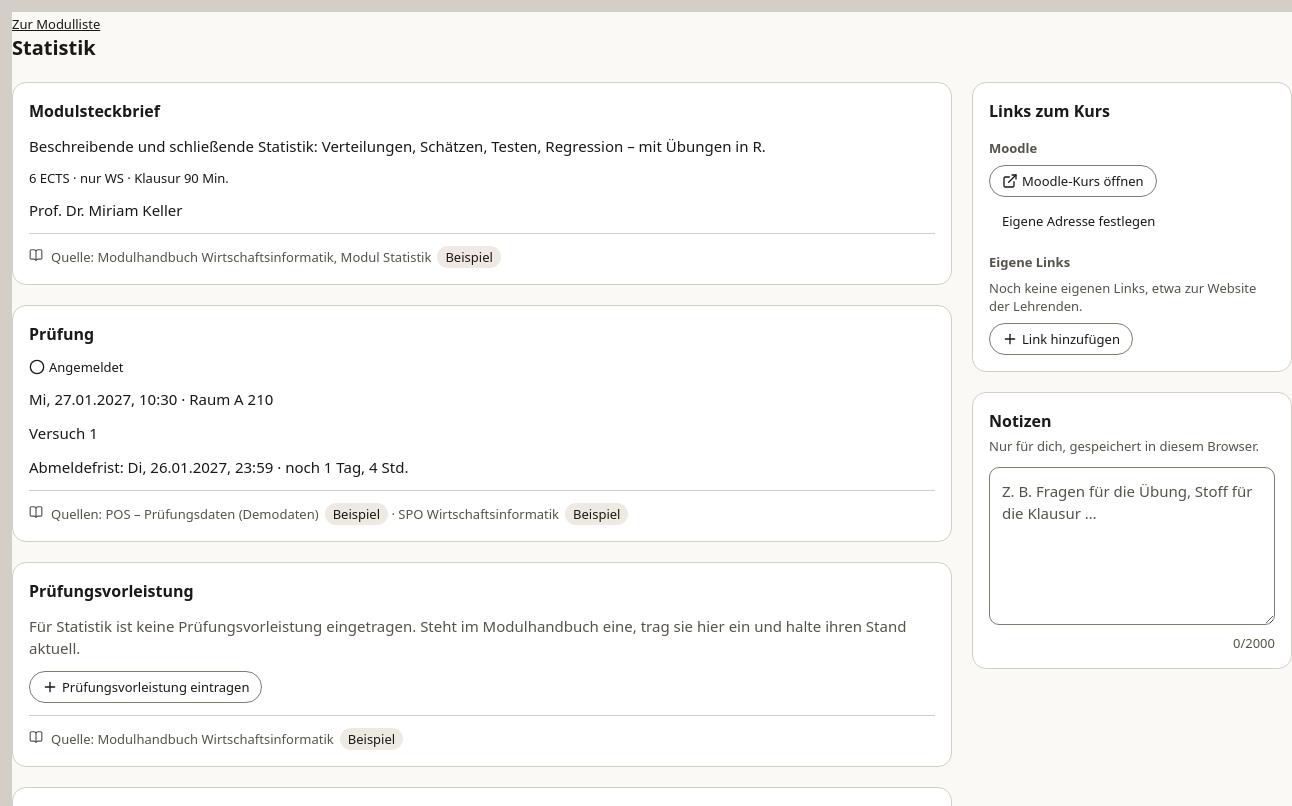
Test case: Prüfungsvorleistung (P5-13) › is entered for modules of this semester and drives the admission (DR-13)
expect the element "Prüfungsvorleistung" shows "Für Statistik ist keine Prüfungsvorleistung eingetragen.": met, box [12,562,952,767]
Click the button "Prüfungsvorleistung eintragen". click: (146, 687)
box: [29,671,262,703]
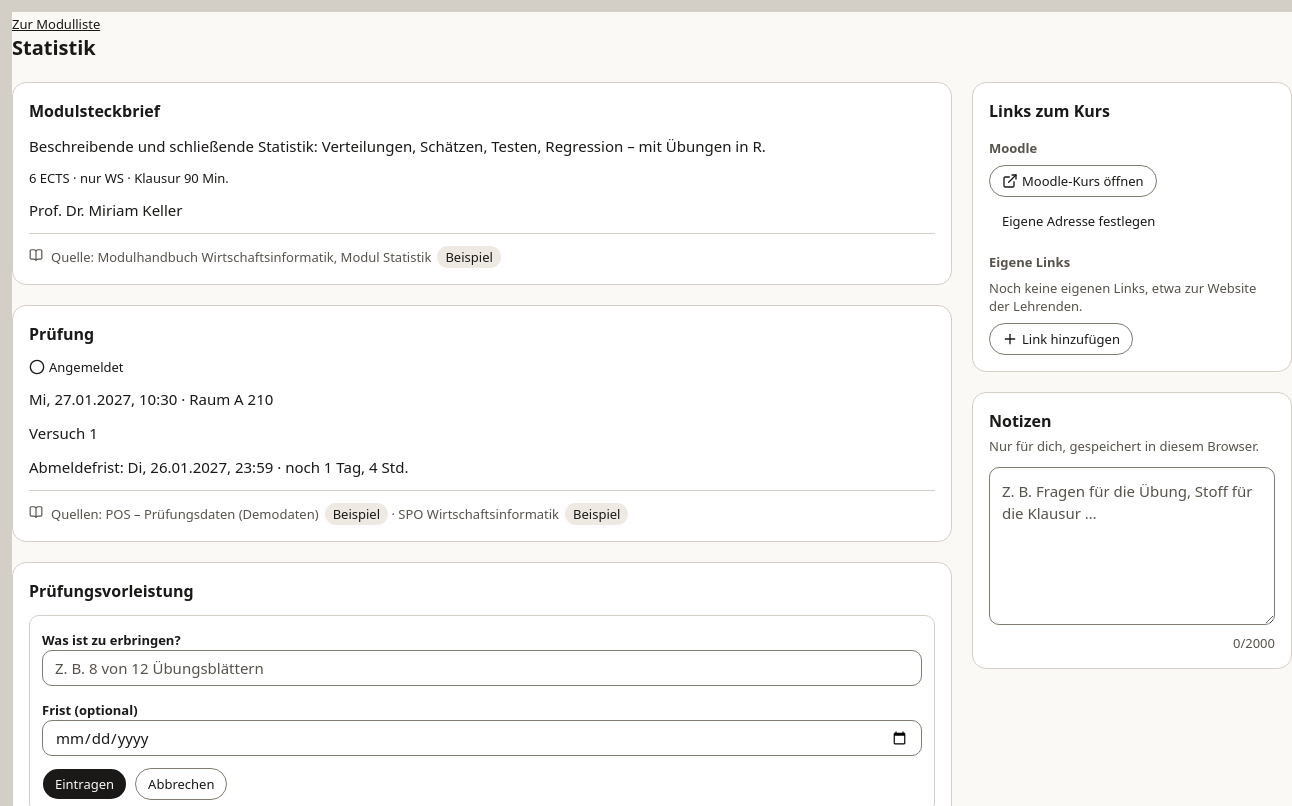
Type "8 von 12 Übungsblättern" into the field labelled "Was ist zu erbringen?". click: (482, 668)
box: [42,650,922,686]
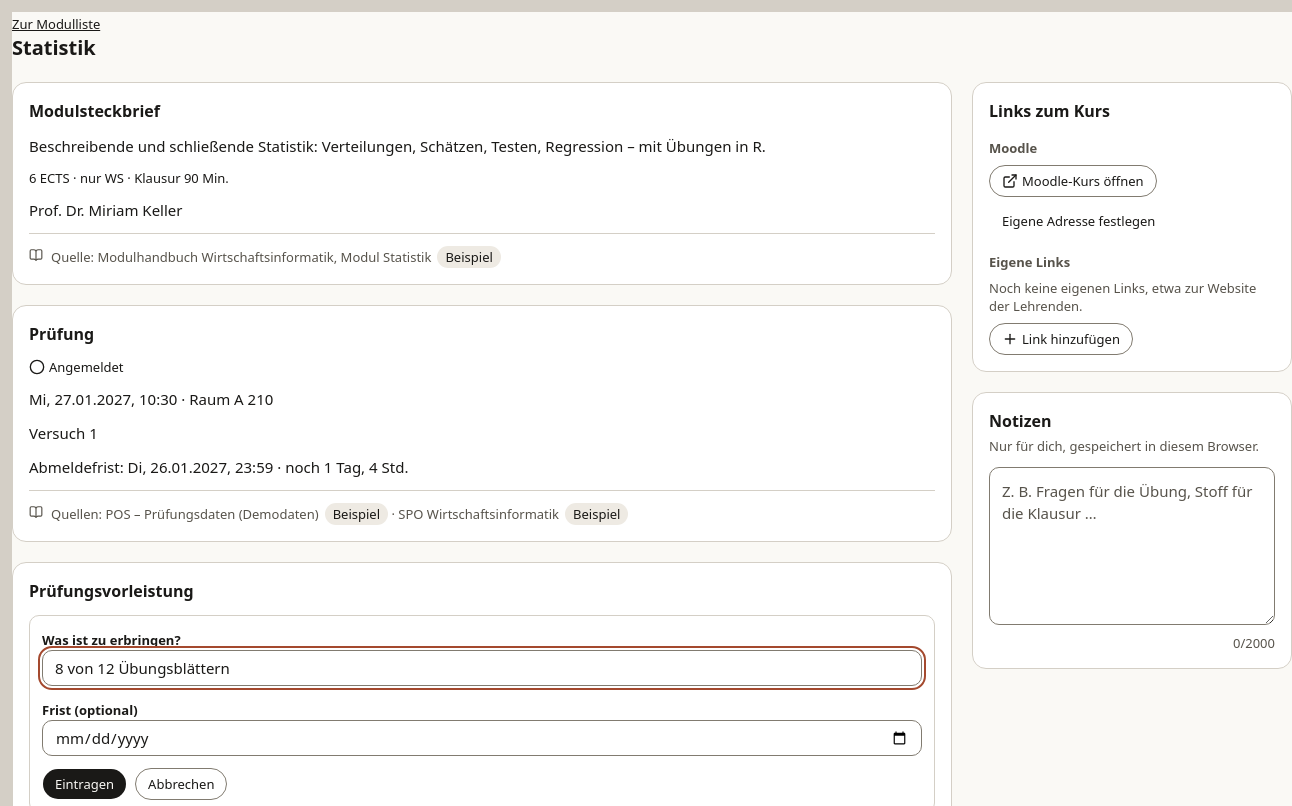
Click the button "Eintragen". click: (85, 784)
box: [42,768,127,800]
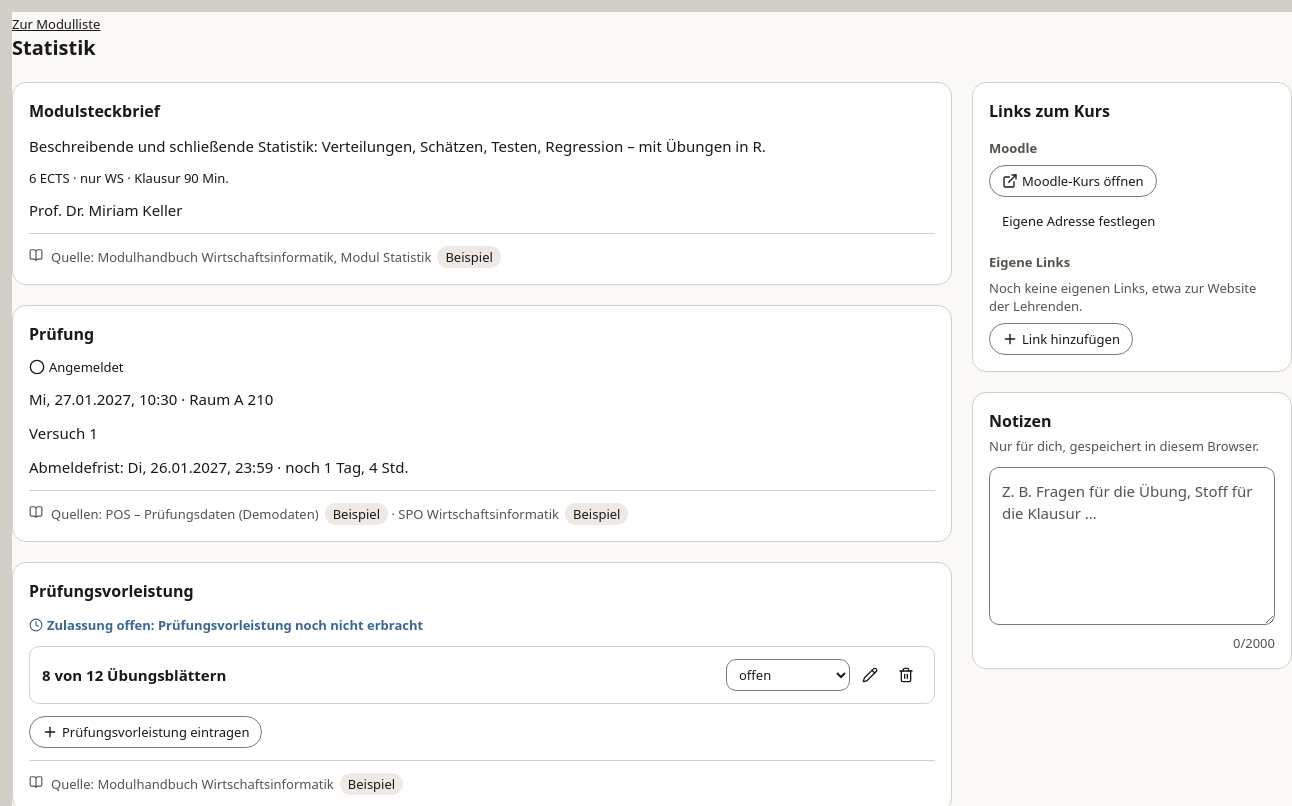
expect the list named "Quellen" shows "Modulhandbuch Wirtschaftsinformatik": met, box [97,775,403,793]
expect the element "Prüfungsvorleistung" shows "Zulassung offen: Prüfungsvorleistung noch nicht erbracht": met, box [47,616,423,634]
Select "erbracht" in the dropdown named "Stand von 8 von 12 Übungsblättern". click: (788, 675)
box: [726,659,850,691]
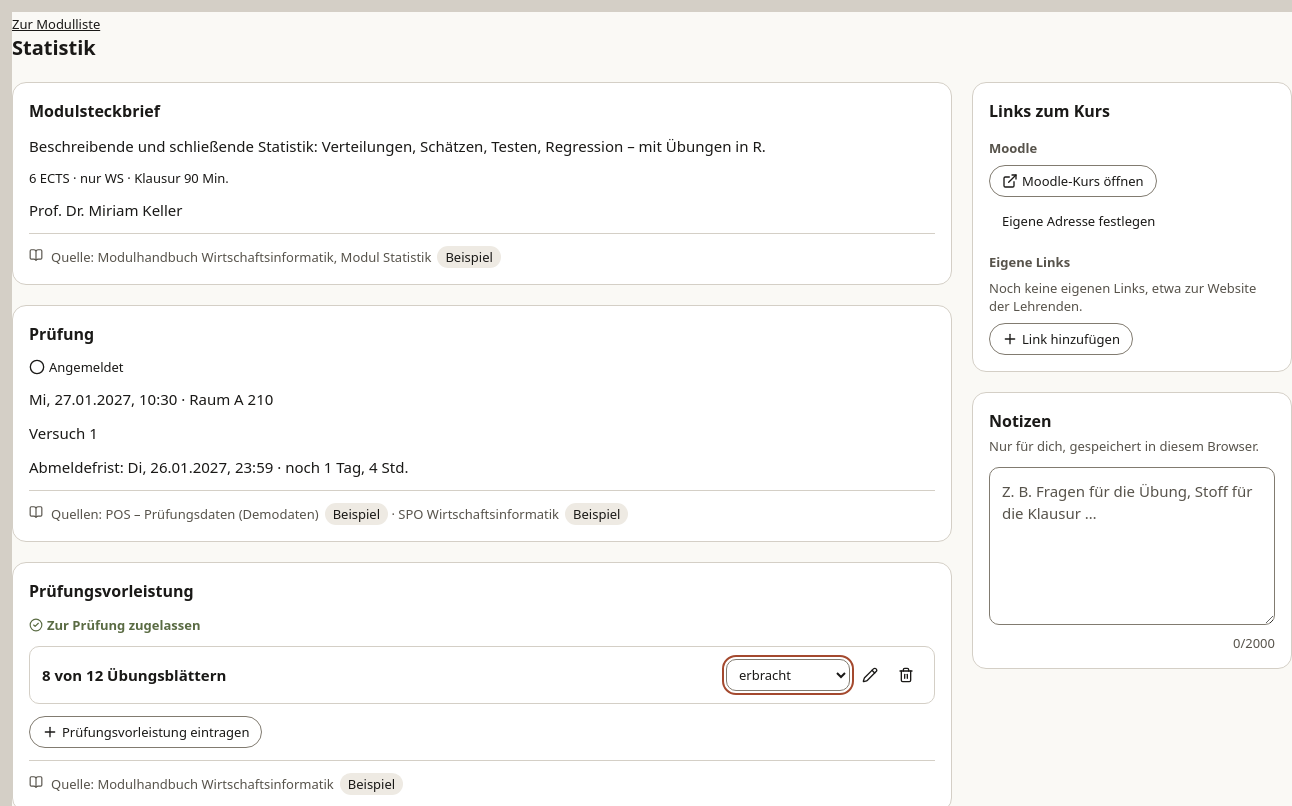
expect the element "Prüfungsvorleistung" shows "Zur Prüfung zugelassen": met, box [47,616,200,634]
Select "nicht erbracht" in the dropdown named "Stand von 8 von 12 Übungsblättern". click: (788, 675)
box: [726,659,850,691]
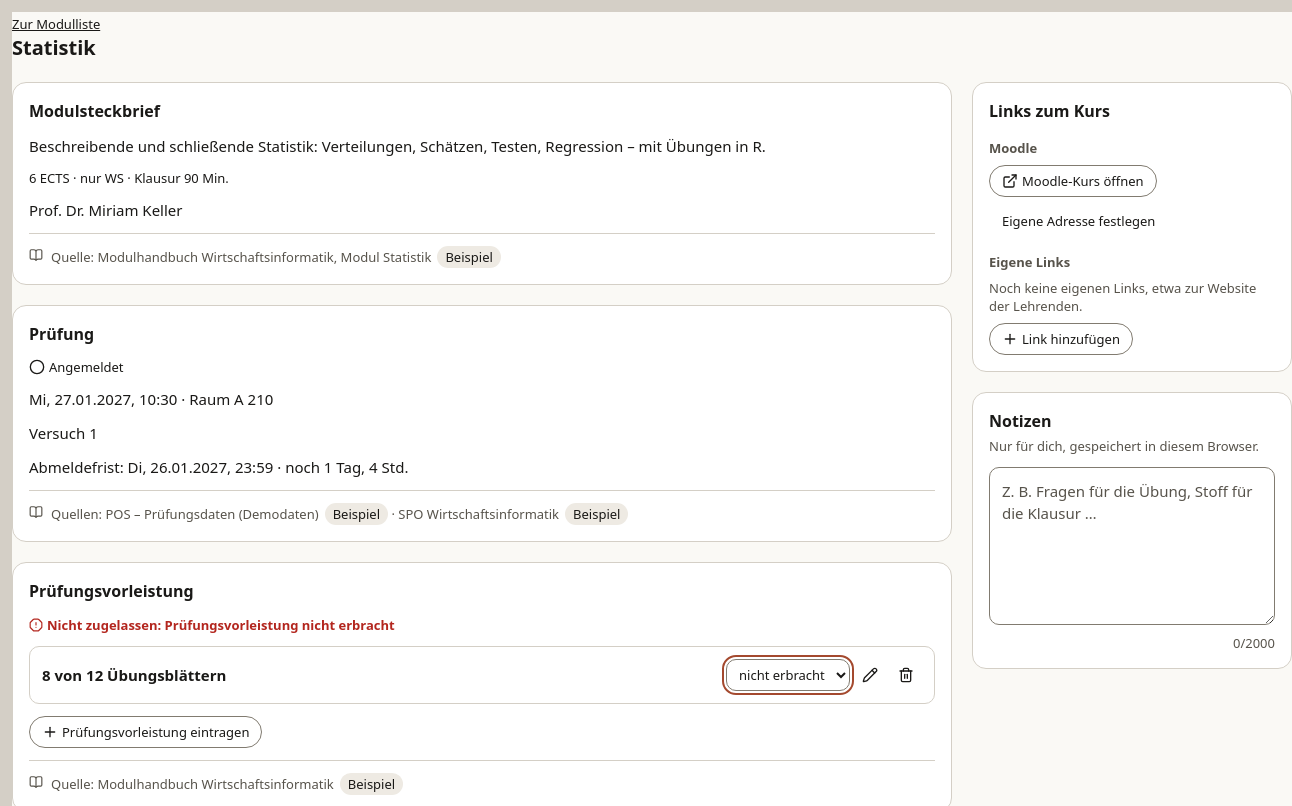
expect the element "Prüfungsvorleistung" shows "Nicht zugelassen": met, box [47,616,395,634]
